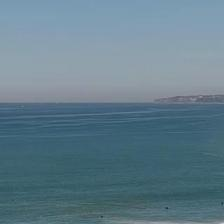surfer: (220, 202, 224, 205), (101, 215, 104, 218), (166, 206, 168, 209)
